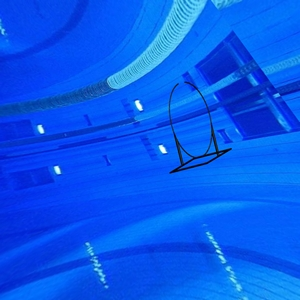circle: (167, 80, 235, 177)
